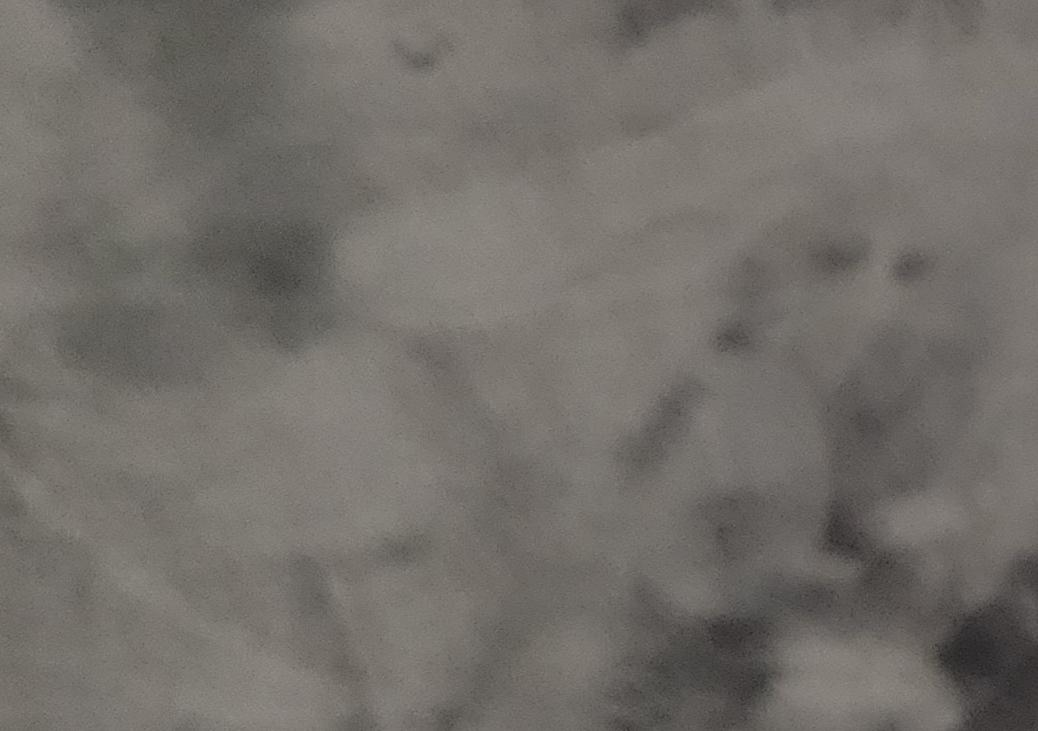Chip: (1, 366, 747, 731)
